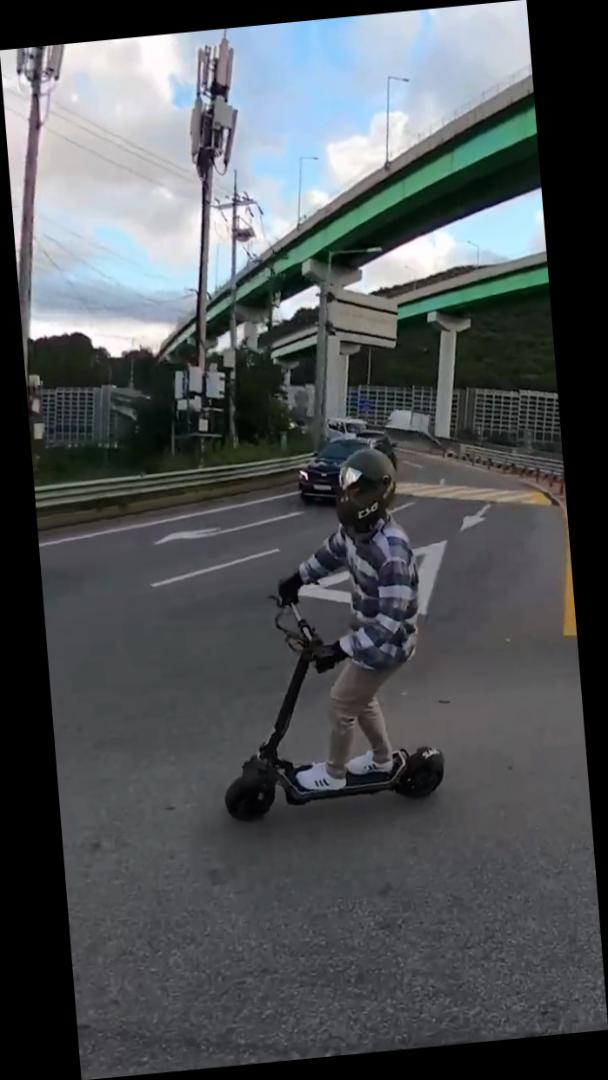helmet: (194, 442, 452, 826)
